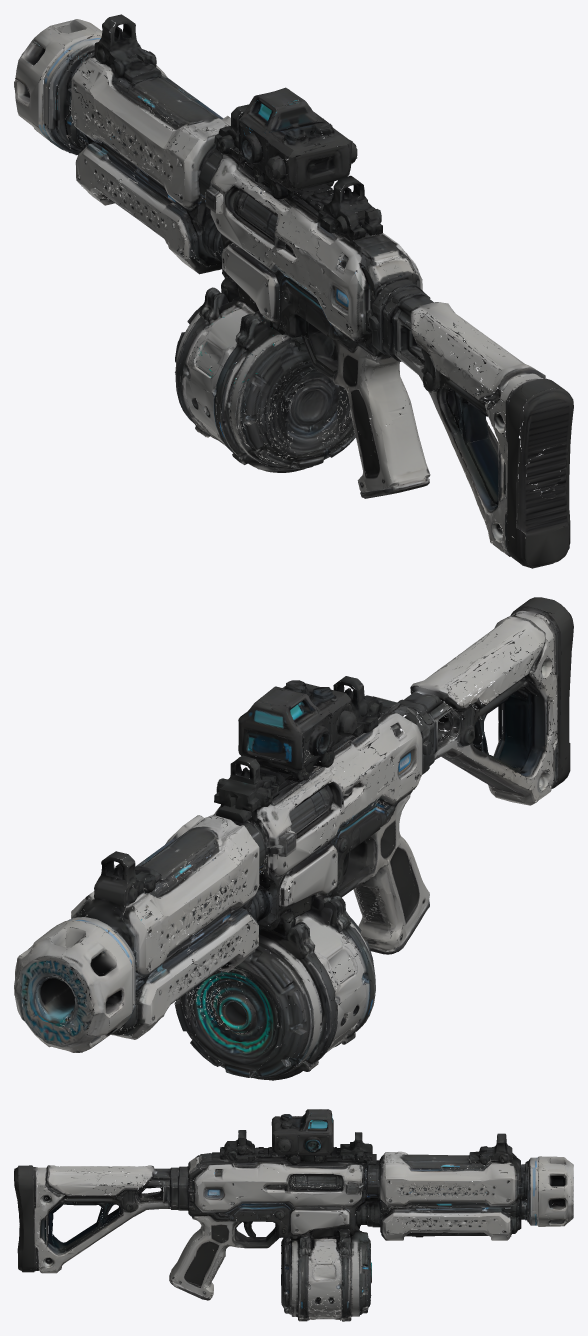
The model's file is em12g2_viewmodel_intact_reload.glb.
3 views of the same model, one above another, from view 1: azimuth 30°, elevation 25°; view 2: azimuth 150°, elevation 25°; view 3: azimuth 270°, elevation 25° (orthographic). The views are drawn at different scales.
Parts seen in each view (by area): view 1: Body, DetachableMagazine; view 2: Body, DetachableMagazine; view 3: Body, DetachableMagazine.
Part boxes in pixels (bbox=[...]): Body: bbox=[14, 14, 573, 568]; DetachableMagazine: bbox=[175, 288, 375, 472]; Body: bbox=[14, 597, 573, 1052]; DetachableMagazine: bbox=[174, 886, 375, 1080]; Body: bbox=[14, 1109, 573, 1318]; DetachableMagazine: bbox=[281, 1222, 371, 1321].
Size of the model in its own units: 0.1635 by 0.361 by 0.8999.
Materials: 1 (1 with a texture image).
